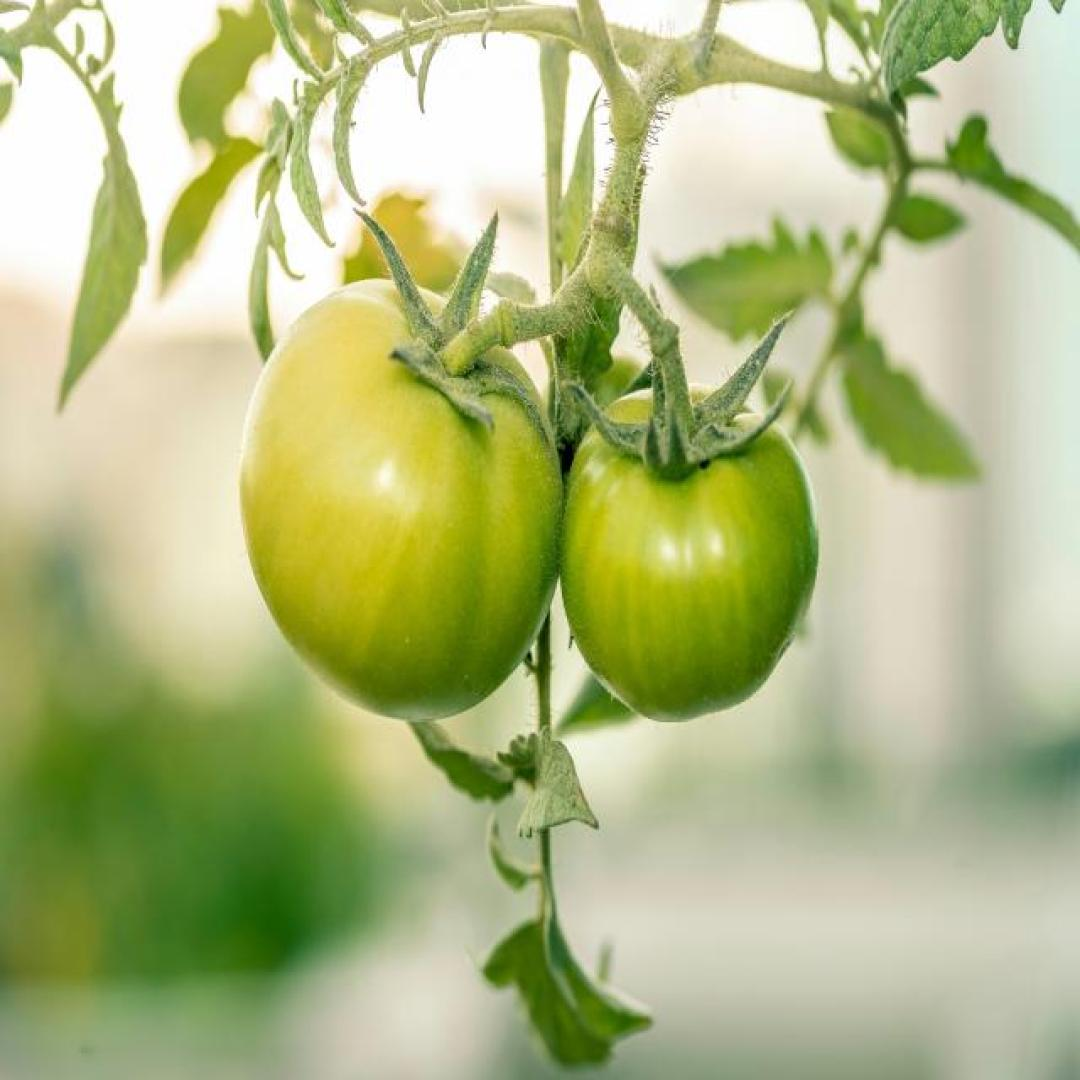mentah: (238, 277, 562, 724), (558, 381, 818, 724)
